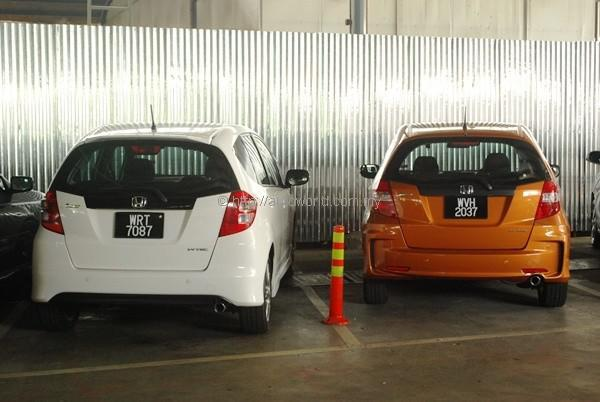Hatchback: (346, 105, 579, 314)
